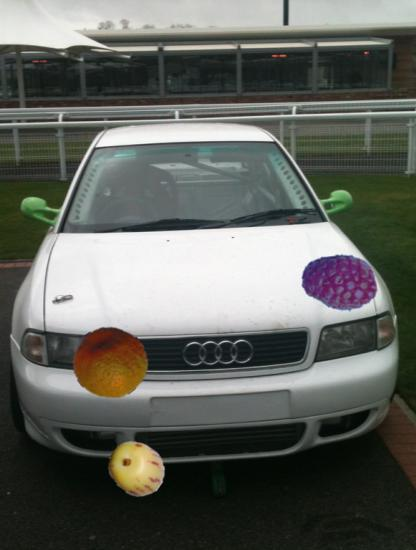Mandarine: (73, 326, 147, 400)
Pepino: (108, 440, 166, 498)
Raspberry: (301, 246, 378, 323)
